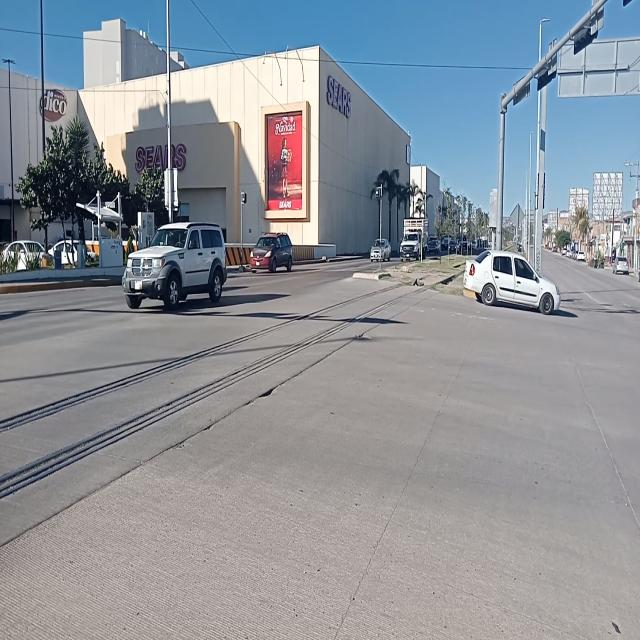Auto: (122, 219, 229, 306), (466, 243, 560, 326)
